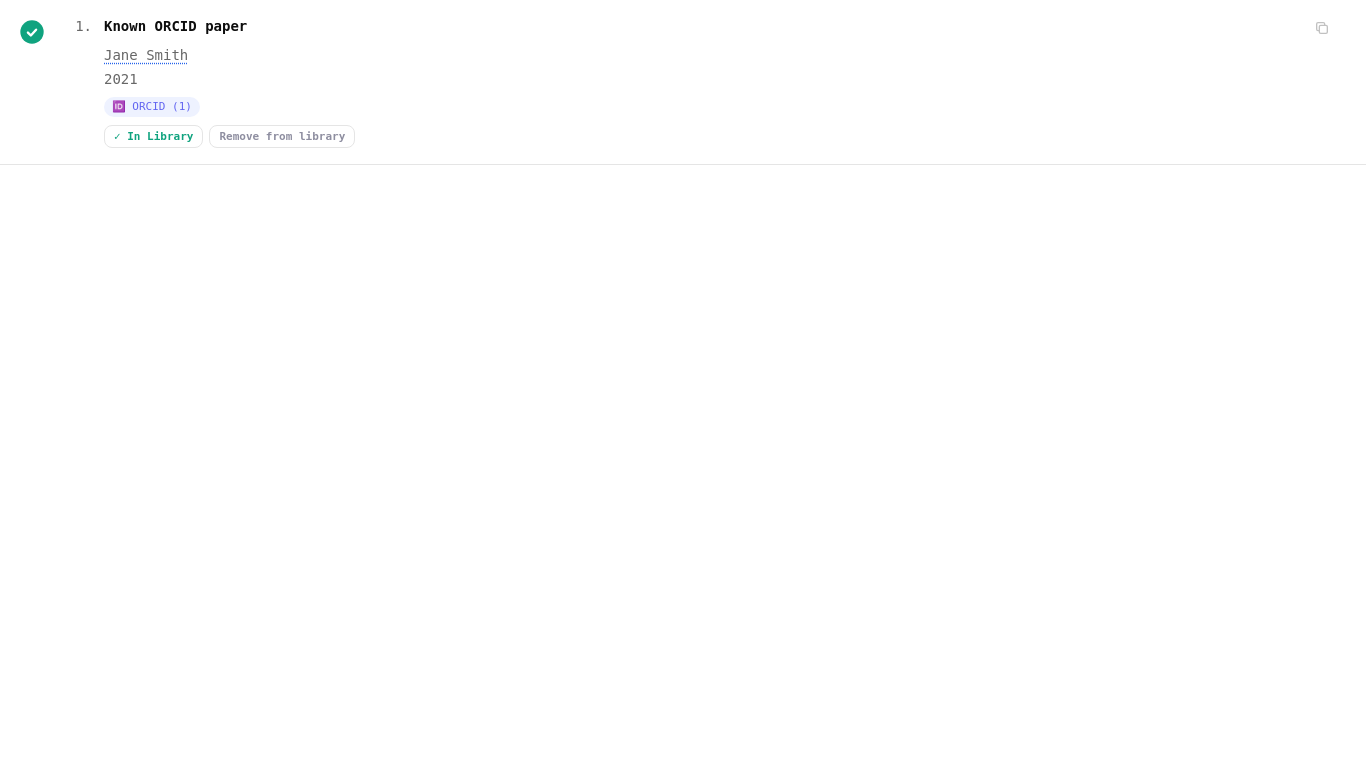
Test: ReferenceCard — author UI cluster (D1) › does not spend a name lookup when the ORCID is already known
This screenshot has width=1366, height=768.
Click the link "Jane Smith": (146,55) x1=104 y1=47 x2=188 y2=63
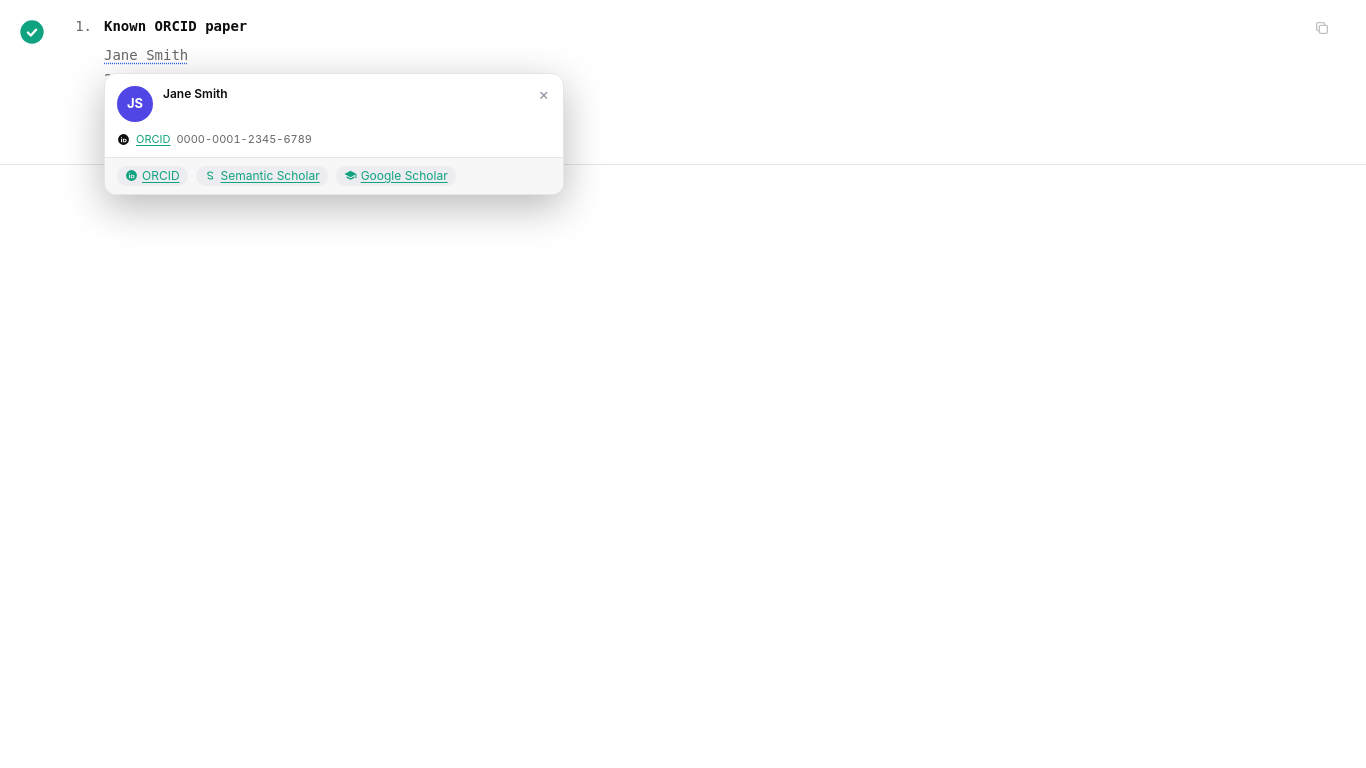
Check: the text "0000-0001-2345-6789" is shown, box x1=176 y1=132 x2=312 y2=147
